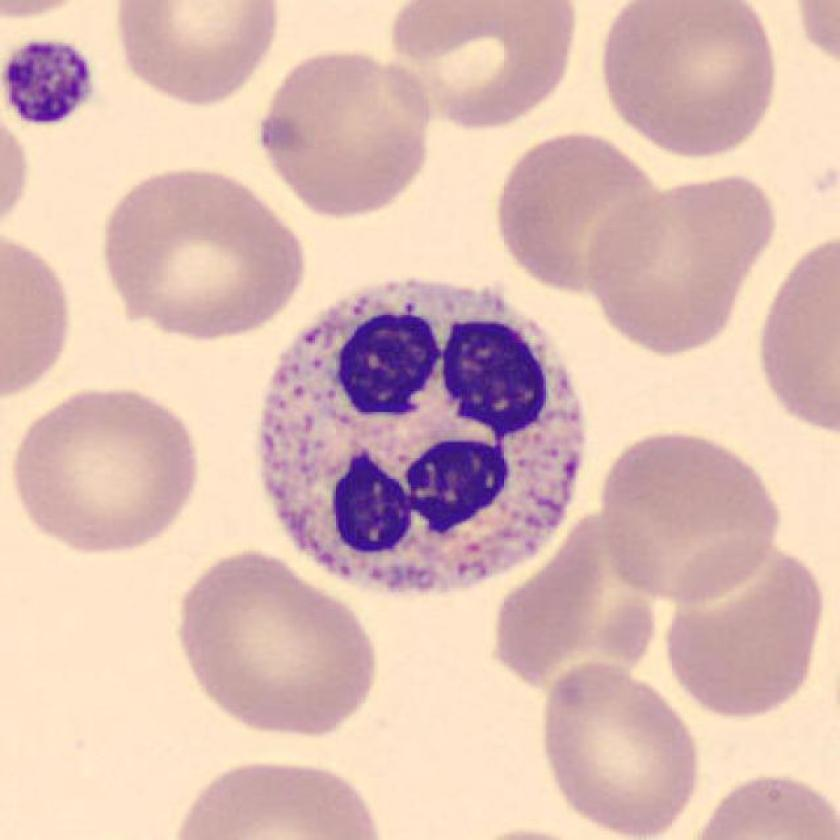neutrophil: (258, 278, 584, 590)
